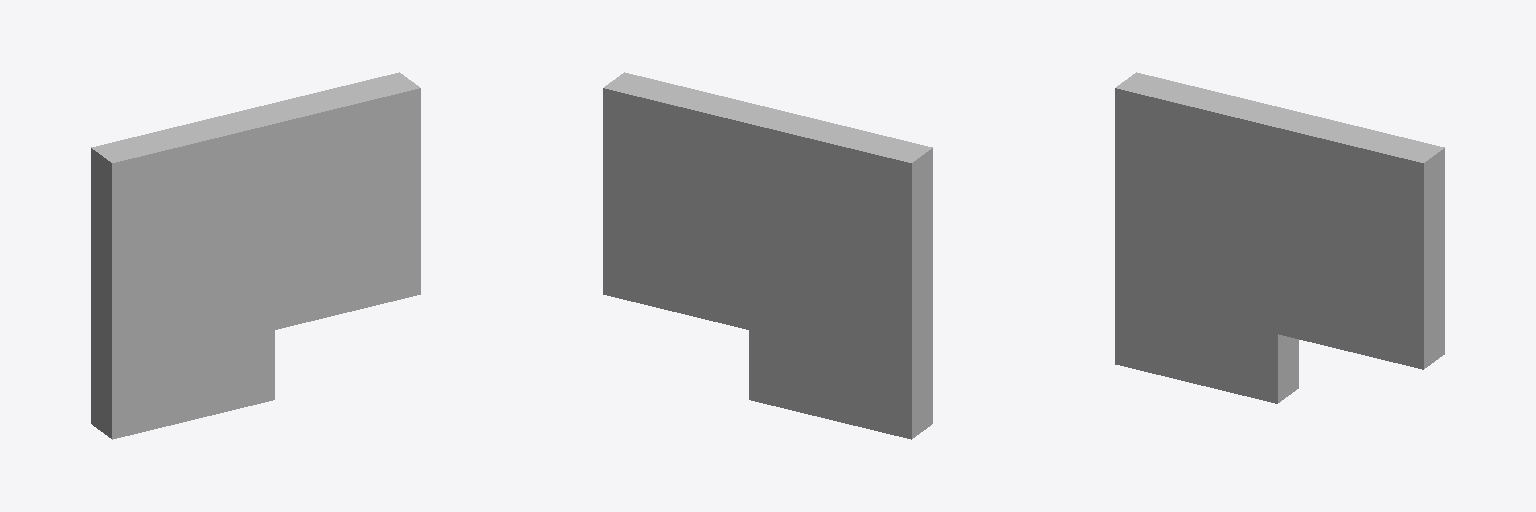
Rendered from wall_crawl.obj.
3 renders of one model, left to right at view 1: azimuth 30°, elevation 25°; view 2: azimuth 150°, elevation 25°; view 3: azimuth 330°, elevation 25°, orthographic.
Visible parts, largest first — view 1: pCube1; view 2: pCube1; view 3: pCube1.
Part boxes in pixels (left/top/right/bottom): pCube1: left=91, top=72, right=420, bottom=439; pCube1: left=603, top=72, right=932, bottom=439; pCube1: left=1115, top=72, right=1444, bottom=403.
Size of the model in its own units: 0.7345 by 0.6281 by 0.0887.